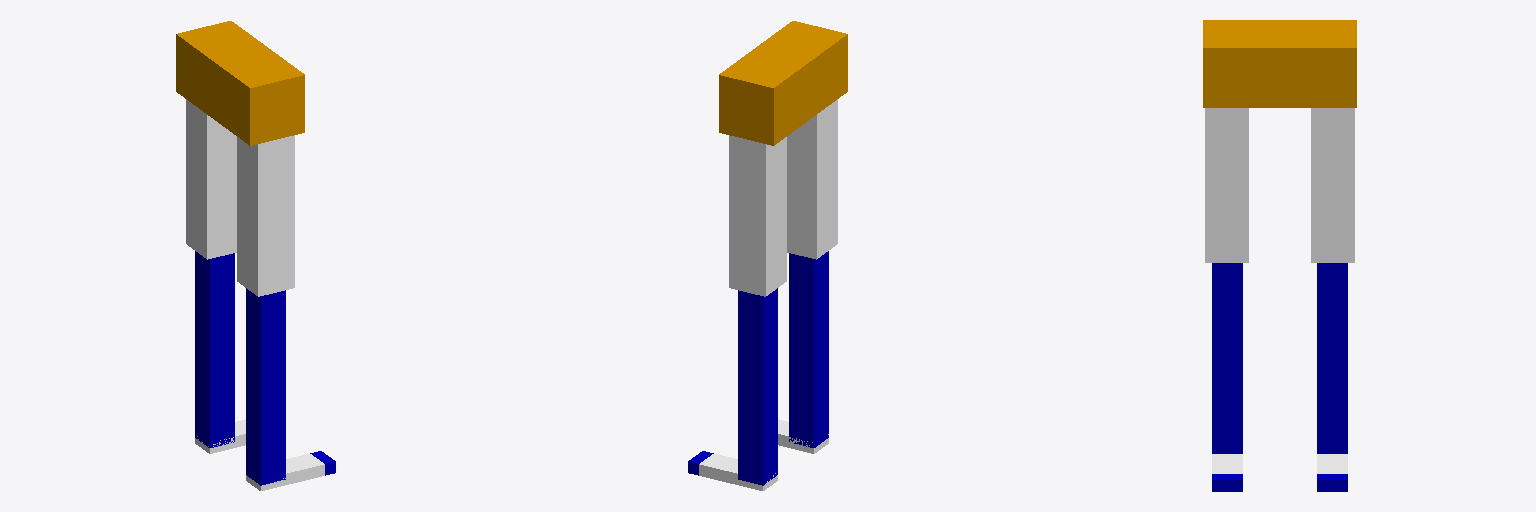
The robot description file, URDF, robot "Opanoid_sketch":
<?xml version="1.0"?>
<robot name="Opanoid_sketch">

<!--materials-->
  <material name="blue">
    <color rgba="0 0 0.8 1"/>
  </material>

  <material name="white">
    <color rgba="1 1 1 1"/>
  </material>
  
<!--links-->
  <link name="base_link">
  	<visual>
  		<geometry>
				<box size="0.15 0.35 0.15"/>
			</geometry>
		</visual>
		<collision>
  		<geometry>
				<box size="0.15 0.35 0.15"/>
			</geometry>
		</collision>
		<inertial>
      <mass value="10"/>
      <inertia ixx="0.4" ixy="0.0" ixz="0.0" iyy="0.4" iyz="0.0" izz="0.2"/>
    </inertial>
	</link>
	<link name="leftThighConnect">
  	<visual>
  		<geometry>
				<box size="0.01 0.01 0.01"/>
			</geometry>
			<origin xyz="0 0 0" rpy="0 0 0"/>
		</visual>
		<collision>
  		<geometry>
				<box size="0.01 0.01 0.01"/>
			</geometry>
			<origin xyz="0 0 0" rpy="0 0 0"/>
		</collision>
		<inertial>
      <mass value="10"/>
      <inertia ixx="0.4" ixy="0.0" ixz="0.0" iyy="0.4" iyz="0.0" izz="0.2"/>
    </inertial>
  </link>
	<link name="leftThigh">
  	<visual>
  		<geometry>
				<box size="0.1 0.1 0.4"/>
			</geometry>
			<origin xyz="0 0 -0.2" rpy="0 0 0"/>
			<material name="white"/>
		</visual>
		<collision>
  		<geometry>
				<box size="0.1 0.1 0.4"/>
			</geometry>
			<origin xyz="0 0 -0.2" rpy="0 0 0"/>
		</collision>
		<inertial>
      <mass value="10"/>
      <inertia ixx="0.4" ixy="0.0" ixz="0.0" iyy="0.4" iyz="0.0" izz="0.2"/>
    </inertial>
  </link>
	<link name="leftCalf">
  	<visual>
  		<geometry>
				<box size="0.07 0.07 0.5"/>
			</geometry>
			<origin xyz="0 0 -0.25" rpy="0 0 0"/>
			<material name="blue"/>
		</visual>
		<collision>
  		<geometry>
				<box size="0.07 0.07 0.5"/>
			</geometry>
			<origin xyz="0 0 -0.25" rpy="0 0 0"/>
		</collision>
		<inertial>
      <mass value="10"/>
      <inertia ixx="0.4" ixy="0.0" ixz="0.0" iyy="0.4" iyz="0.0" izz="0.2"/>
    </inertial>
  </link>
  <link name="leftAnkle">
  	<visual>
  		<geometry>
				<box size="0.01 0.01 0.01"/>
			</geometry>
			<origin xyz="0 0 0" rpy="0 0 0"/>
		</visual>
		<collision>
  		<geometry>
				<box size="0.01 0.01 0.01"/>
			</geometry>
			<origin xyz="0 0 0" rpy="0 0 0"/>
		</collision>
		<inertial>
      <mass value="10"/>
      <inertia ixx="0.4" ixy="0.0" ixz="0.0" iyy="0.4" iyz="0.0" izz="0.2"/>
    </inertial>
  </link>
  <link name="leftFoot">
  	<visual>
  		<geometry>
				<box size="0.175 0.07 0.03"/>
			</geometry>
			<origin xyz="0.0525 0 0" rpy="0 0 0"/>
			<material name="white"/>
		</visual>
		<collision>
  		<geometry>
				<box size="0.175 0.07 0.03"/>
			</geometry>
			<origin xyz="0.0525 0 0" rpy="0 0 0"/>
		</collision>
		<inertial>
      <mass value="10"/>
      <inertia ixx="0.4" ixy="0.0" ixz="0.0" iyy="0.4" iyz="0.0" izz="0.2"/>
    </inertial>
  </link>
  <link name="leftToe">
  	<visual>
  		<geometry>
				<box size="0.03 0.07 0.03"/>
			</geometry>
			<origin xyz="0.015 0 0" rpy="0 0 0"/>
			<material name="blue"/>
		</visual>
		<collision>
  		<geometry>
				<box size="0.03 0.07 0.03"/>
			</geometry>
			<origin xyz="0.015 0 0" rpy="0 0 0"/>
		</collision>
		<inertial>
      <mass value="10"/>
      <inertia ixx="0.4" ixy="0.0" ixz="0.0" iyy="0.4" iyz="0.0" izz="0.2"/>
    </inertial>
  </link>
  <link name="rightThighConnect">
  	<visual>
  		<geometry>
				<box size="0.01 0.01 0.01"/>
			</geometry>
			<origin xyz="0 0 0" rpy="0 0 0"/>
		</visual>
		<collision>
  		<geometry>
				<box size="0.01 0.01 0.01"/>
			</geometry>
			<origin xyz="0 0 0" rpy="0 0 0"/>
		</collision>
		<inertial>
      <mass value="10"/>
      <inertia ixx="0.4" ixy="0.0" ixz="0.0" iyy="0.4" iyz="0.0" izz="0.2"/>
    </inertial>
  </link>
  <link name="rightThigh">
  	<visual>
  		<geometry>
				<box size="0.1 0.1 0.4"/>
			</geometry>
			<origin xyz="0 0 -0.2" rpy="0 0 0"/>
			<material name="white"/>
		</visual>
		<collision>
  		<geometry>
				<box size="0.1 0.1 0.4"/>
			</geometry>
			<origin xyz="0 0 -0.2" rpy="0 0 0"/>
		</collision>
		<inertial>
      <mass value="10"/>
      <inertia ixx="0.4" ixy="0.0" ixz="0.0" iyy="0.4" iyz="0.0" izz="0.2"/>
    </inertial>
  </link>
  <link name="rightCalf">
  	<visual>
  		<geometry>
				<box size="0.07 0.07 0.5"/>
			</geometry>
			<origin xyz="0 0 -0.25" rpy="0 0 0"/>
			<material name="blue"/>
		</visual>
		<collision>
  		<geometry>
				<box size="0.07 0.07 0.5"/>
			</geometry>
			<origin xyz="0 0 -0.25" rpy="0 0 0"/>
		</collision>
		<inertial>
      <mass value="10"/>
      <inertia ixx="0.4" ixy="0.0" ixz="0.0" iyy="0.4" iyz="0.0" izz="0.2"/>
    </inertial>
  </link>
  <link name="rightAnkle">
  	<visual>
  		<geometry>
				<box size="0.01 0.01 0.01"/>
			</geometry>
			<origin xyz="0 0 0" rpy="0 0 0"/>
		</visual>
		<collision>
  		<geometry>
				<box size="0.01 0.01 0.01"/>
			</geometry>
			<origin xyz="0 0 0" rpy="0 0 0"/>
		</collision>
		<inertial>
      <mass value="10"/>
      <inertia ixx="0.4" ixy="0.0" ixz="0.0" iyy="0.4" iyz="0.0" izz="0.2"/>
    </inertial>
  </link>
  <link name="rightFoot">
  	<visual>
  		<geometry>
				<box size="0.175 0.07 0.03"/>
			</geometry>
			<origin xyz="0.0525 0 0" rpy="0 0 0"/>
			<material name="white"/>
		</visual>
		<collision>
  		<geometry>
				<box size="0.175 0.07 0.03"/>
			</geometry>
			<origin xyz="0.0525 0 0" rpy="0 0 0"/>
		</collision>
		<inertial>
      <mass value="10"/>
      <inertia ixx="0.4" ixy="0.0" ixz="0.0" iyy="0.4" iyz="0.0" izz="0.2"/>
    </inertial>
  </link>
  <link name="rightToe">
  	<visual>
  		<geometry>
				<box size="0.03 0.07 0.03"/>
			</geometry>
			<origin xyz="0.015 0 0" rpy="0 0 0"/>
			<material name="blue"/>
		</visual>
		<collision>
  		<geometry>
				<box size="0.03 0.07 0.03"/>
			</geometry>
			<origin xyz="0.015 0 0" rpy="0 0 0"/>
		</collision>
		<inertial>
      <mass value="10"/>
      <inertia ixx="0.4" ixy="0.0" ixz="0.0" iyy="0.4" iyz="0.0" izz="0.2"/>
    </inertial>
  </link>
  <link name="imu_link">
  	<collision>
      <origin xyz="0 0 0" rpy="0 0 0"/>
      <geometry>
    		<box size="0 0 0"/>
      </geometry>
    </collision>
    <visual>
      <origin xyz="0 0 0" rpy="0 0 0"/>
      <geometry>
    		<box size="0.07 0.07 0.07"/>
      </geometry>
      <material name="white"/>
    </visual>
    <inertial>
      <mass value="1e-5" />
      <origin xyz="0 0 0" rpy="0 0 0"/>
      <inertia ixx="1e-6" ixy="0" ixz="0" iyy="1e-6" iyz="0" izz="1e-6" />
    </inertial>
  </link>

<!--joints-->
	<joint name="leftThighY" type="revolute">
    <parent link="base_link"/>
    <child link="leftThighConnect"/>
    <axis xyz="0 -1 0"/>
    <limit effort="100.0" lower="-1.570" upper="1.570" velocity="7.48"/>
		<origin xyz="0 0.12 -0.075" rpy="0 0 0"/>
  </joint>
  <transmission name="leftThighY_trans">
    <type>transmission_interface/SimpleTransmission</type>
    <actuator name="$leftThighY_motor">
      <mechanicalReduction>1</mechanicalReduction>
    </actuator>
    <joint name="leftThighY">
      <hardwareInterface>hardware_interface/PositionJointInterface</hardwareInterface>
    </joint>
  </transmission>
  
  <joint name="leftThighX" type="revolute">
    <parent link="leftThighConnect"/>
    <child link="leftThigh"/>
    <axis xyz="1 0 0"/>
    <limit effort="100.0" lower="-0.15" upper="1.570" velocity="6.546"/>
		<origin xyz="0 0 0" rpy="0 0 0"/>
  </joint>
  <transmission name="leftThighX_trans">
    <type>transmission_interface/SimpleTransmission</type>
    <actuator name="$leftThighX_motor">
      <mechanicalReduction>1</mechanicalReduction>
    </actuator>
    <joint name="leftThighX">
      <hardwareInterface>hardware_interface/PositionJointInterface</hardwareInterface>
    </joint>
  </transmission>
  
	<joint name="leftKnee" type="revolute">
    <parent link="leftThigh"/>
    <child link="leftCalf"/>
    <axis xyz="0 1 0"/>
    <limit effort="100.0" lower="0" upper="1.570" velocity="7.48"/>
		<origin xyz="0 0 -0.4" rpy="0 0 0"/>
  </joint>
  <transmission name="leftKnee_trans">
    <type>transmission_interface/SimpleTransmission</type>
    <actuator name="$leftKnee_motor">
      <mechanicalReduction>1</mechanicalReduction>
    </actuator>
    <joint name="leftKnee">
      <hardwareInterface>hardware_interface/PositionJointInterface</hardwareInterface>
    </joint>
  </transmission>
  
  <joint name="leftAnkleX" type="revolute">
    <parent link="leftCalf"/>
    <child link="leftAnkle"/>
    <axis xyz="1 0 0"/>
    <limit effort="100.0" lower="-1.570" upper="1.570" velocity="7.48"/>
		<origin xyz="0 0 -0.5" rpy="0 0 0"/>
  </joint>
  <transmission name="leftAnkleX_trans">
    <type>transmission_interface/SimpleTransmission</type>
    <actuator name="$leftAnkleX_motor">
      <mechanicalReduction>1</mechanicalReduction>
    </actuator>
    <joint name="leftAnkleX">
      <hardwareInterface>hardware_interface/PositionJointInterface</hardwareInterface>
    </joint>
  </transmission>
  
  <joint name="leftAnkleY" type="revolute">
    <parent link="leftAnkle"/>
    <child link="leftFoot"/>
    <axis xyz="0 1 0"/>
    <limit effort="100.0" lower="-1.570" upper="1.570" velocity="7.48"/>
		<origin xyz="0 0 0" rpy="0 0 0"/>
  </joint>
  <transmission name="leftAnkleY_trans">
    <type>transmission_interface/SimpleTransmission</type>
    <actuator name="$leftAnkleY_motor">
      <mechanicalReduction>1</mechanicalReduction>
    </actuator>
    <joint name="leftAnkleY">
      <hardwareInterface>hardware_interface/PositionJointInterface</hardwareInterface>
    </joint>
  </transmission>
   
  <joint name="leftToe" type="revolute">
    <parent link="leftFoot"/>
    <child link="leftToe"/>
    <axis xyz="0 1 0"/>
    <limit effort="100.0" lower="-1.570" upper="1.570" velocity="7.48"/>
		<origin xyz="0.14 0 0" rpy="0 0 0"/>
  </joint>
  <transmission name="leftToe_trans">
    <type>transmission_interface/SimpleTransmission</type>
    <actuator name="$leftToe_motor">
      <mechanicalReduction>1</mechanicalReduction>
    </actuator>
    <joint name="leftToe">
      <hardwareInterface>hardware_interface/PositionJointInterface</hardwareInterface>
    </joint>
  </transmission>
  
  <joint name="rightThighY" type="revolute">
    <parent link="base_link"/>
    <child link="rightThighConnect"/>
    <axis xyz="0 -1 0"/>
    <limit effort="1000.0" lower="-1.570" upper="1.570" velocity="7.48"/>
		<origin xyz="0 -0.12 -0.075" rpy="0 0 0"/>
  </joint>
  <transmission name="rightThighY_trans">
    <type>transmission_interface/SimpleTransmission</type>
    <actuator name="$rightThighY_motor">
      <mechanicalReduction>1</mechanicalReduction>
    </actuator>
    <joint name="rightThighY">
      <hardwareInterface>hardware_interface/PositionJointInterface</hardwareInterface>
    </joint>
  </transmission>
  
  <joint name="rightThighX" type="revolute">
    <parent link="rightThighConnect"/>
    <child link="rightThigh"/>
    <axis xyz="-1 0 0"/>
    <limit effort="100.0" lower="-0.15" upper="1.5705" velocity="6.546"/>
		<origin xyz="0 0 0" rpy="0 0 0"/>
  </joint>
  <transmission name="rightThighX_trans">
    <type>transmission_interface/SimpleTransmission</type>
    <actuator name="$rightThighX_motor">
      <mechanicalReduction>1</mechanicalReduction>
    </actuator>
    <joint name="rightThighX">
      <hardwareInterface>hardware_interface/PositionJointInterface</hardwareInterface>
    </joint>
  </transmission>

	<joint name="rightKnee" type="revolute">
    <parent link="rightThigh"/>
    <child link="rightCalf"/>
    <axis xyz="0 1 0"/>
    <limit effort="100.0" lower="0" upper="1.570" velocity="7.48"/>
		<origin xyz="0 0 -0.4" rpy="0 0 0" />
  </joint>
  <transmission name="rightKnee_trans">
    <type>transmission_interface/SimpleTransmission</type>
    <actuator name="$rightKnee_motor">
      <mechanicalReduction>1</mechanicalReduction>
    </actuator>
    <joint name="rightKnee">
      <hardwareInterface>hardware_interface/PositionJointInterface</hardwareInterface>
    </joint>
  </transmission>
  
  <joint name="rightAnkleX" type="revolute">
    <parent link="rightCalf"/>
    <child link="rightAnkle"/>
    <axis xyz="1 0 0"/>
    <limit effort="100.0" lower="-1.570" upper="1.570" velocity="7.48"/>
		<origin xyz="0 0 -0.5" rpy="0 0 0"/>
  </joint>
  <transmission name="rightAnkleX_trans">
    <type>transmission_interface/SimpleTransmission</type>
    <actuator name="$rightAnkleX_motor">
      <mechanicalReduction>1</mechanicalReduction>
    </actuator>
    <joint name="rightAnkleX">
      <hardwareInterface>hardware_interface/PositionJointInterface</hardwareInterface>
    </joint>
  </transmission>
  
  <joint name="rightAnkleY" type="revolute">
    <parent link="rightAnkle"/>
    <child link="rightFoot"/>
    <axis xyz="0 1 0"/>
    <limit effort="100.0" lower="-1.570" upper="1.570" velocity="7.48"/>
		<origin xyz="0 0 0" rpy="0 0 0"/>
  </joint>
  <transmission name="rightAnkleY_trans">
    <type>transmission_interface/SimpleTransmission</type>
    <actuator name="$rightAnkleY_motor">
      <mechanicalReduction>1</mechanicalReduction>
    </actuator>
    <joint name="rightAnkleY">
      <hardwareInterface>hardware_interface/PositionJointInterface</hardwareInterface>
    </joint>
  </transmission>
  
  <joint name="rightToe" type="revolute">
    <parent link="rightFoot"/>
    <child link="rightToe"/>
    <axis xyz="0 1 0"/>
    <limit effort="100.0" lower="-1.570" upper="1.570" velocity="7.48"/>
		<origin xyz="0.14 0 0" rpy="0 0 0"/>
  </joint>
  <transmission name="rightToe_trans">
    <type>transmission_interface/SimpleTransmission</type>
    <actuator name="$rightToe_motor">
      <mechanicalReduction>1</mechanicalReduction>
    </actuator>
    <joint name="rightToe">
      <hardwareInterface>hardware_interface/PositionJointInterface</hardwareInterface>
    </joint>
  </transmission>
  
  <joint name="imu_joint" type="fixed">
    <axis xyz="0 1 0" />
    <origin xyz="0 0 0" rpy="0 0 0"/>
    <parent link="base_link"/>
    <child link="imu_link"/>
  </joint>
  
  <gazebo reference="imu_link">
    <gravity>true</gravity>
    <sensor name="imu_sensor" type="imu">
      <always_on>true</always_on>
      <update_rate>100</update_rate>
      <visualize>true</visualize>
      <topic>__default_topic__</topic>
      <plugin filename="libgazebo_ros_imu_sensor.so" name="imu_plugin">
        <topicName>imu</topicName>
        <bodyName>imu_link</bodyName>
        <updateRateHZ>10.0</updateRateHZ>
        <gaussianNoise>0.0</gaussianNoise>
        <xyzOffset>0 0 0</xyzOffset>
        <rpyOffset>0 0 0</rpyOffset>
        <frameName>imu_link</frameName>
      </plugin>
      <pose>0 0 0 0 0 0</pose>
    </sensor>
  </gazebo>
  
  <gazebo>
    <plugin name="gazebo_ros_control" filename="libgazebo_ros_control.so">
      <robotNamespace>/</robotNamespace>
    </plugin>
  </gazebo> 
  
</robot>

--- Facts derived from the render (not from the file) ---
3 views of the same robot in one strip: view 1: azimuth 30°, elevation 25°; view 2: azimuth 150°, elevation 25°; view 3: azimuth 270°, elevation 25° (orthographic).
Robot: Opanoid_sketch — 14 links, 13 joints (12 revolute, 1 fixed); root link base_link; default pose: all joints at 0.
Links seen in each view (by area): view 1: base_link, rightThigh, rightCalf, leftCalf, leftThigh, rightFoot, leftFoot; view 2: base_link, leftThigh, leftCalf, rightCalf, rightThigh, leftFoot, rightFoot; view 3: base_link, leftThigh, rightThigh, leftCalf, rightCalf, leftFoot, rightFoot, leftToe, rightToe.
Link boxes in pixels (<box>): base_link: <box>176,21,304,145</box>; rightThigh: <box>237,135,294,296</box>; rightCalf: <box>246,288,285,485</box>; leftCalf: <box>195,251,234,447</box>; leftThigh: <box>186,99,236,259</box>; rightFoot: <box>246,454,324,490</box>; leftFoot: <box>195,419,245,453</box>; base_link: <box>719,21,847,145</box>; leftThigh: <box>729,135,786,296</box>; leftCalf: <box>738,288,777,485</box>; rightCalf: <box>789,251,828,447</box>; rightThigh: <box>787,99,837,259</box>; leftFoot: <box>699,454,777,490</box>; rightFoot: <box>778,419,828,453</box>; base_link: <box>1203,20,1356,107</box>; leftThigh: <box>1311,108,1354,262</box>; rightThigh: <box>1205,108,1248,262</box>; leftCalf: <box>1317,263,1347,453</box>; rightCalf: <box>1212,263,1242,453</box>; leftFoot: <box>1317,454,1347,473</box>; rightFoot: <box>1212,454,1242,473</box>; leftToe: <box>1317,474,1347,491</box>; rightToe: <box>1212,474,1242,491</box>.
Size in the robot's own frame: 0.245 by 0.35 by 1.06 metres.
Geometry: primitives only (box / cylinder / sphere), no mesh files.